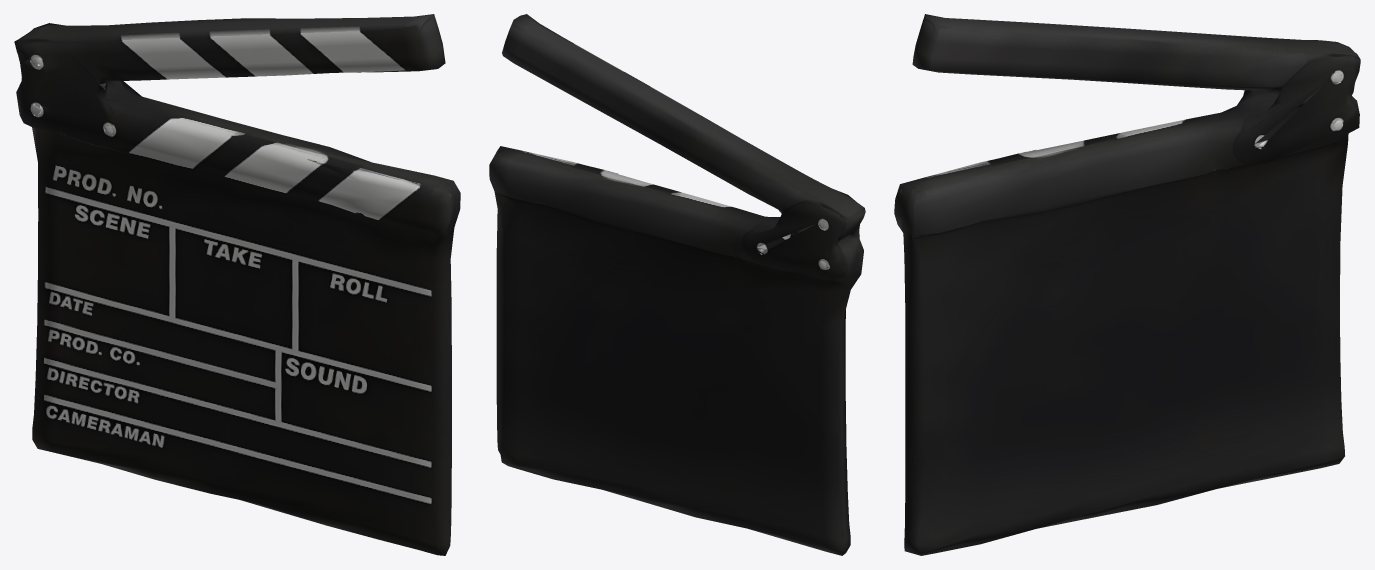
File: Slate_Ani.glb
3 views of the same model, side by side, from view 1: azimuth 30°, elevation 25°; view 2: azimuth 210°, elevation 25°; view 3: azimuth 270°, elevation 25° (orthographic). The views are drawn at different scales.
Visible parts, largest first — view 1: Slate; view 2: Slate; view 3: Slate.
Part boxes in pixels (x1,y1,x2,y2): Slate: (14,14,460,555); Slate: (489,14,865,555); Slate: (894,14,1360,555).
Size of the model in its own units: 0.00138 by 0.00303 by 0.0024.
1 material, 1 textured.
